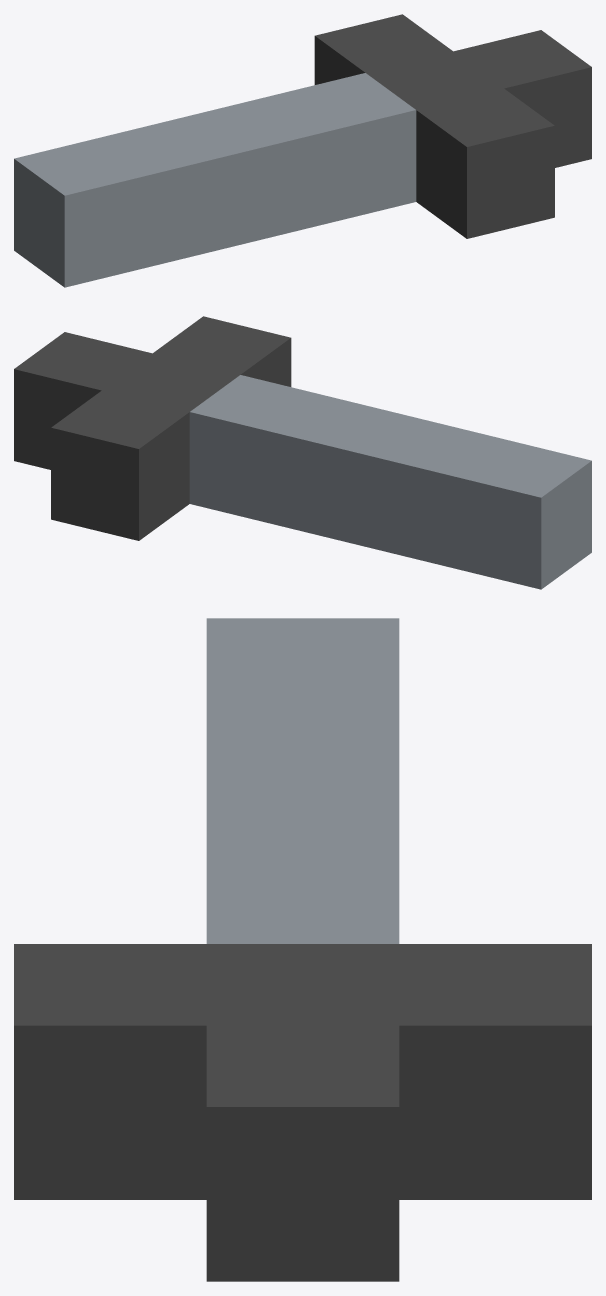
The model's file is tavern-23-dagger.obj.
3 views of the same model, one above another, from view 1: azimuth 30°, elevation 25°; view 2: azimuth 150°, elevation 25°; view 3: azimuth 270°, elevation 25° (orthographic). The views are drawn at different scales.
Visible parts, largest first — view 1: dagger; view 2: dagger; view 3: dagger.
Part boxes in pixels (x1,y1,x2,y2): dagger: (14,14,591,287); dagger: (14,316,591,589); dagger: (14,618,591,1281).
Bounding box in the file's own units: 0.6 × 0.1 × 0.3.
1 material, 1 textured.
